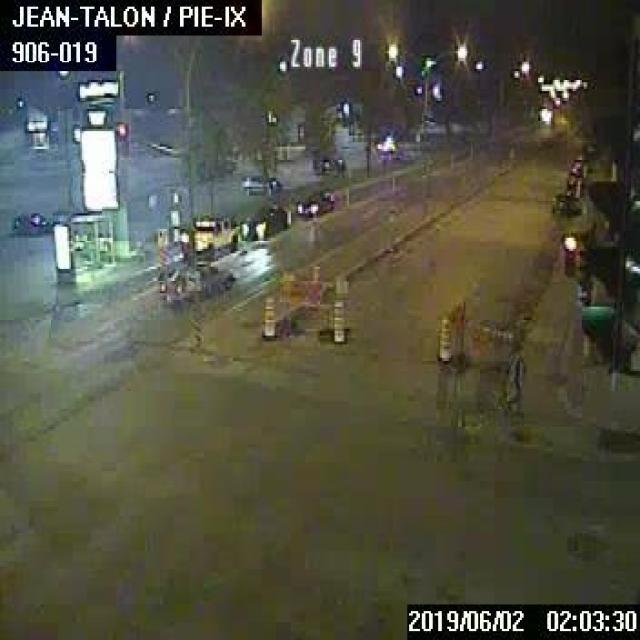construction: (271, 265, 348, 340), (447, 298, 520, 372), (434, 314, 449, 362), (330, 298, 345, 342), (261, 295, 274, 337)
pedestrian: (506, 338, 526, 409)
vehicle: (157, 260, 230, 299), (179, 215, 237, 257), (241, 204, 289, 237), (296, 190, 335, 216), (10, 210, 49, 233), (242, 173, 282, 194), (311, 153, 343, 175), (551, 190, 572, 213), (564, 174, 580, 196), (567, 160, 581, 174)
